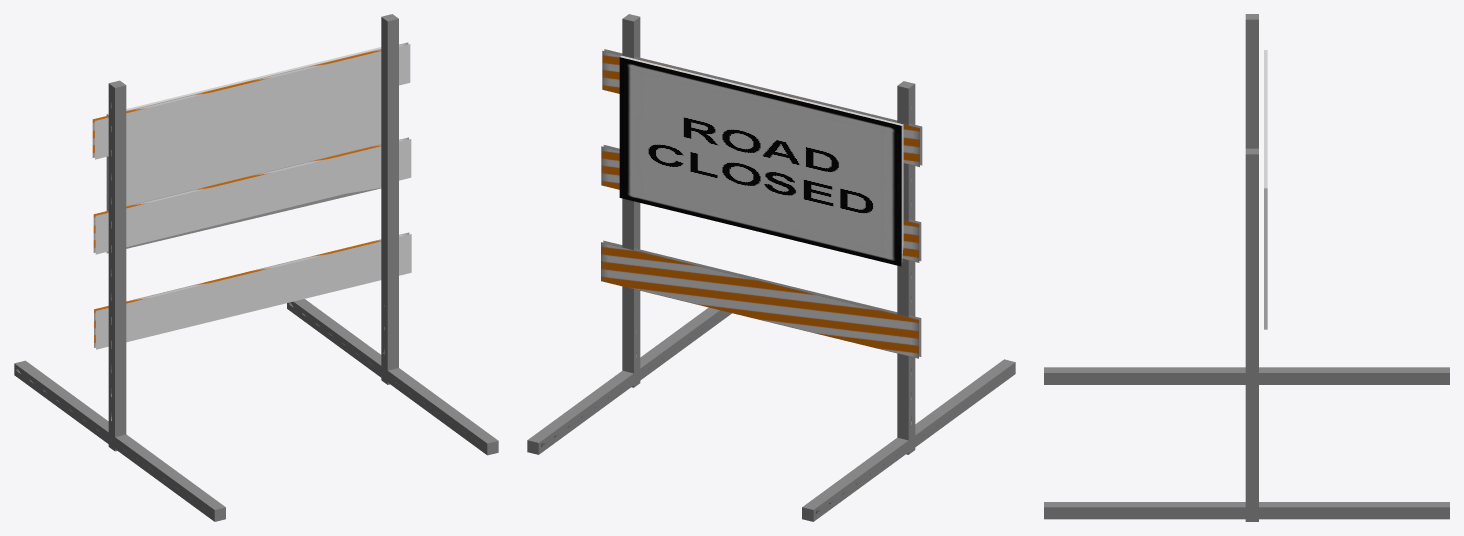
File: road-closed-hazard-sign.fbx
3 views of the same model, side by side, from view 1: azimuth 30°, elevation 25°; view 2: azimuth 150°, elevation 25°; view 3: azimuth 270°, elevation 25° (orthographic).
Parts seen in each view (by area): view 1: pCube8, pCube6, pCube5, pCube7, pCube4, pCube3, pCube9, pCube10; view 2: pCube8, pCube7, pCube9, pCube10, pCube4, pCube3, pCube5, pCube6; view 3: pCube10, pCube9, pCube3, pCube4, pCube8.
Boxes of the visible parts, x1,y1,x2,y2 form: pCube8: (106,47,381,253); pCube6: (93,137,411,254); pCube5: (92,42,410,159); pCube7: (94,232,411,349); pCube4: (108,80,126,451); pCube3: (381,14,398,384); pCube9: (14,360,225,521); pCube10: (287,299,498,455); pCube8: (619,56,903,266); pCube7: (601,240,921,358); pCube9: (802,359,1015,521); pCube10: (527,307,731,454); pCube4: (897,81,915,454); pCube3: (622,14,640,387); pCube5: (602,49,922,166); pCube6: (601,145,921,262); pCube10: (1044,502,1449,519); pCube9: (1044,367,1449,384); pCube3: (1245,148,1258,521); pCube4: (1245,14,1258,148); pCube8: (1264,50,1267,329).
Bounding box in the file's own units: 2.32 × 2.55 × 2.55.
